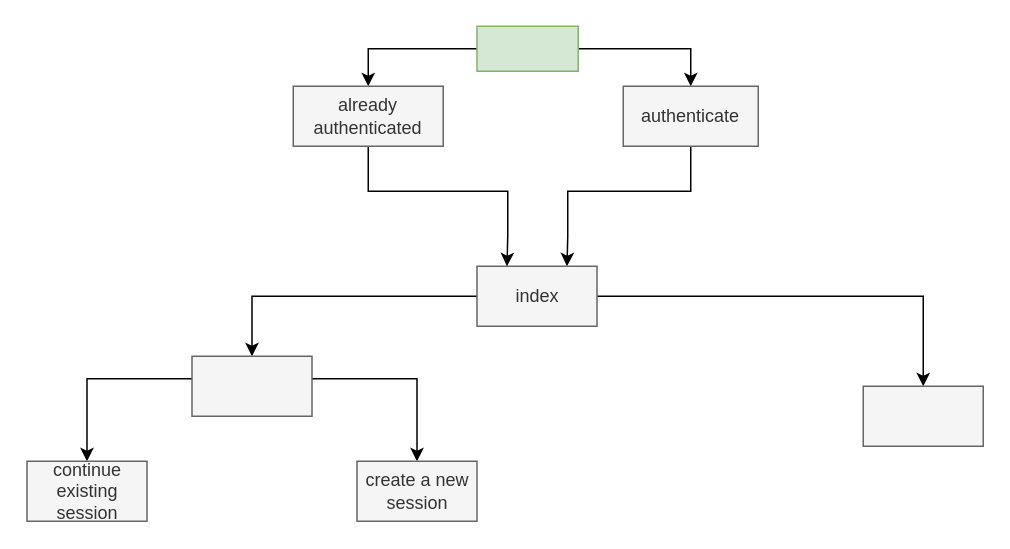
Image size: 1010x549. Some labels were removed from this diagram. The centre of each missing label's shape, as x and y in pixels:
create a party: the point at 251,385
join a party: the point at 922,415
start: the point at 527,48
